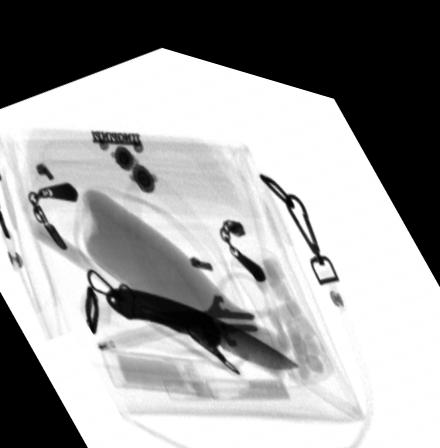Knife: (104, 278, 298, 354)
Scissors: (153, 254, 294, 356)
